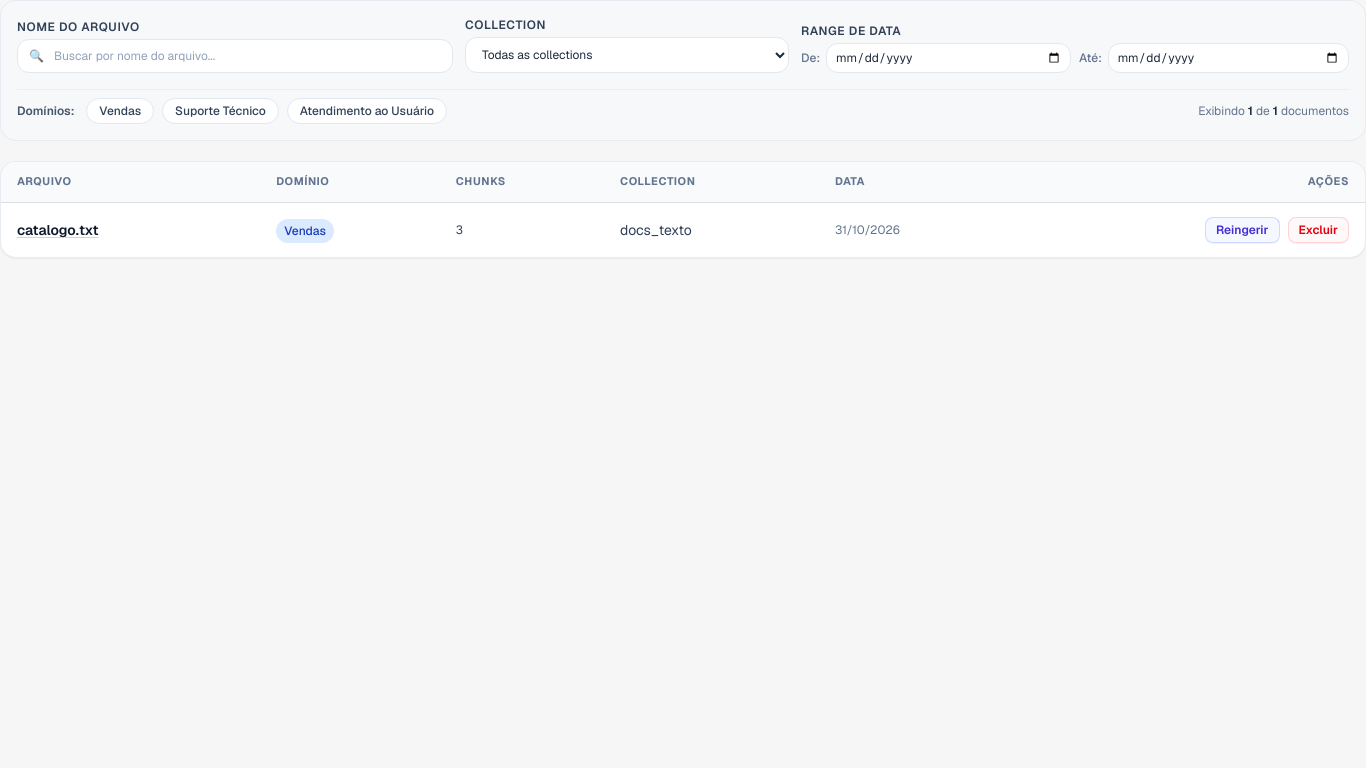
Test: DocumentsTable › exibe erro quando a exclusão falha
This screenshot has width=1366, height=768.
Click the button "Excluir": coordinates (1318, 230) left=1288, top=217, right=1349, bottom=243
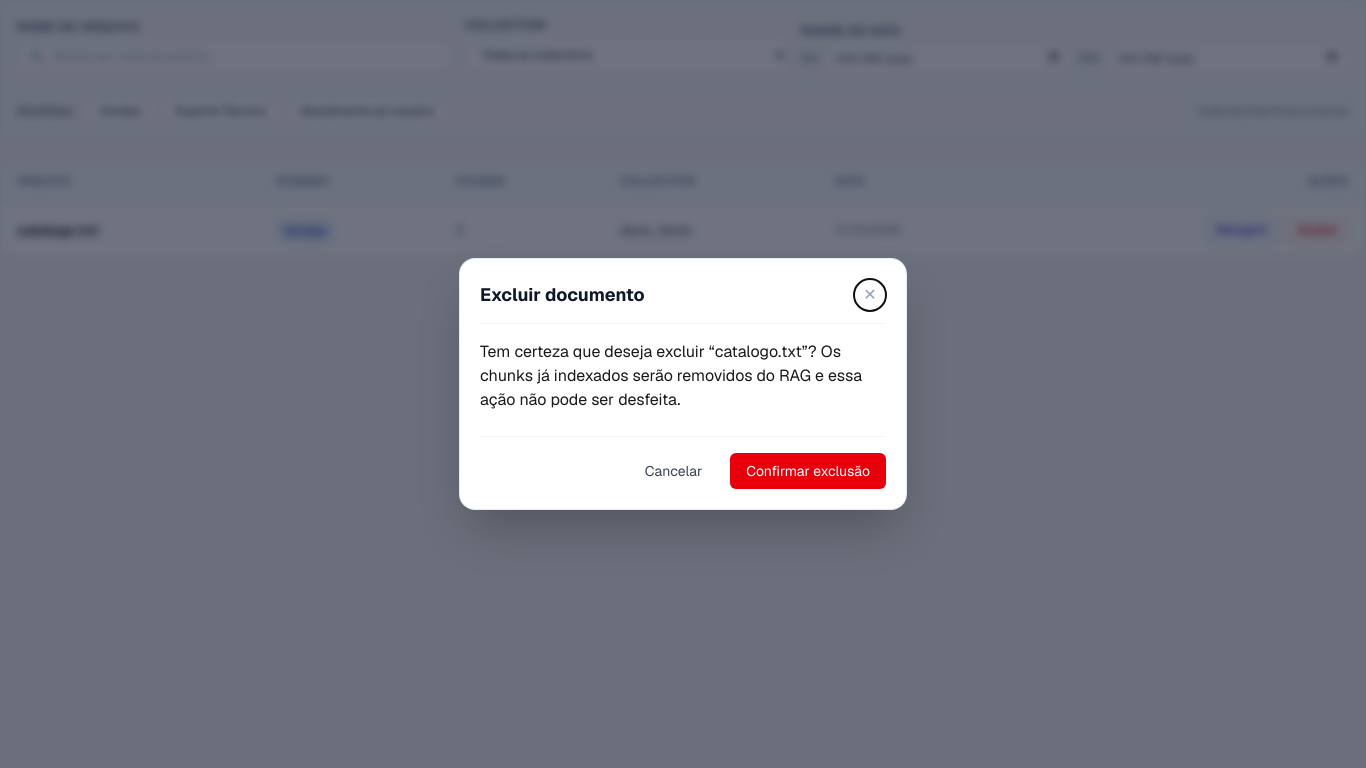
Click the button "Confirmar exclusão": coordinates (808, 471) left=730, top=453, right=886, bottom=489
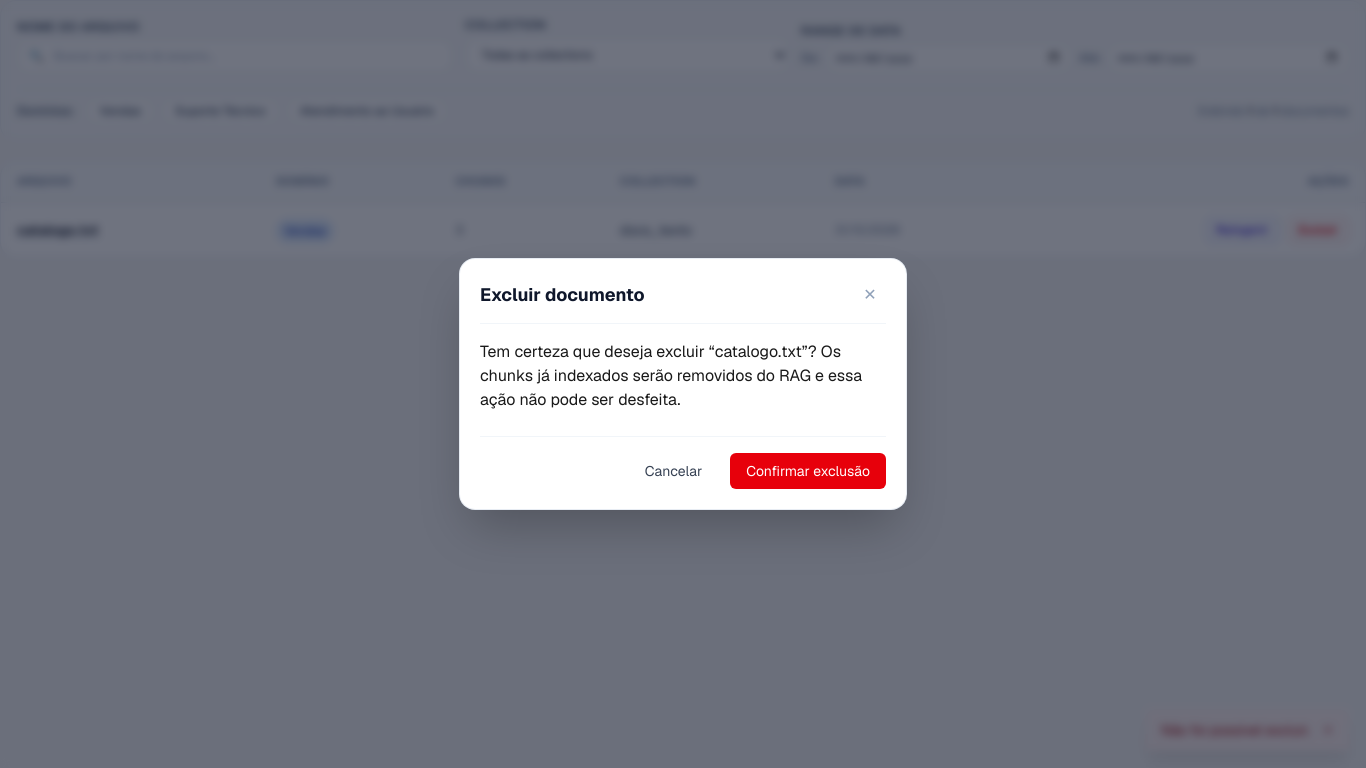
Expected: the text "Não foi possível excluir." is shown, left=1161, top=720, right=1310, bottom=740
